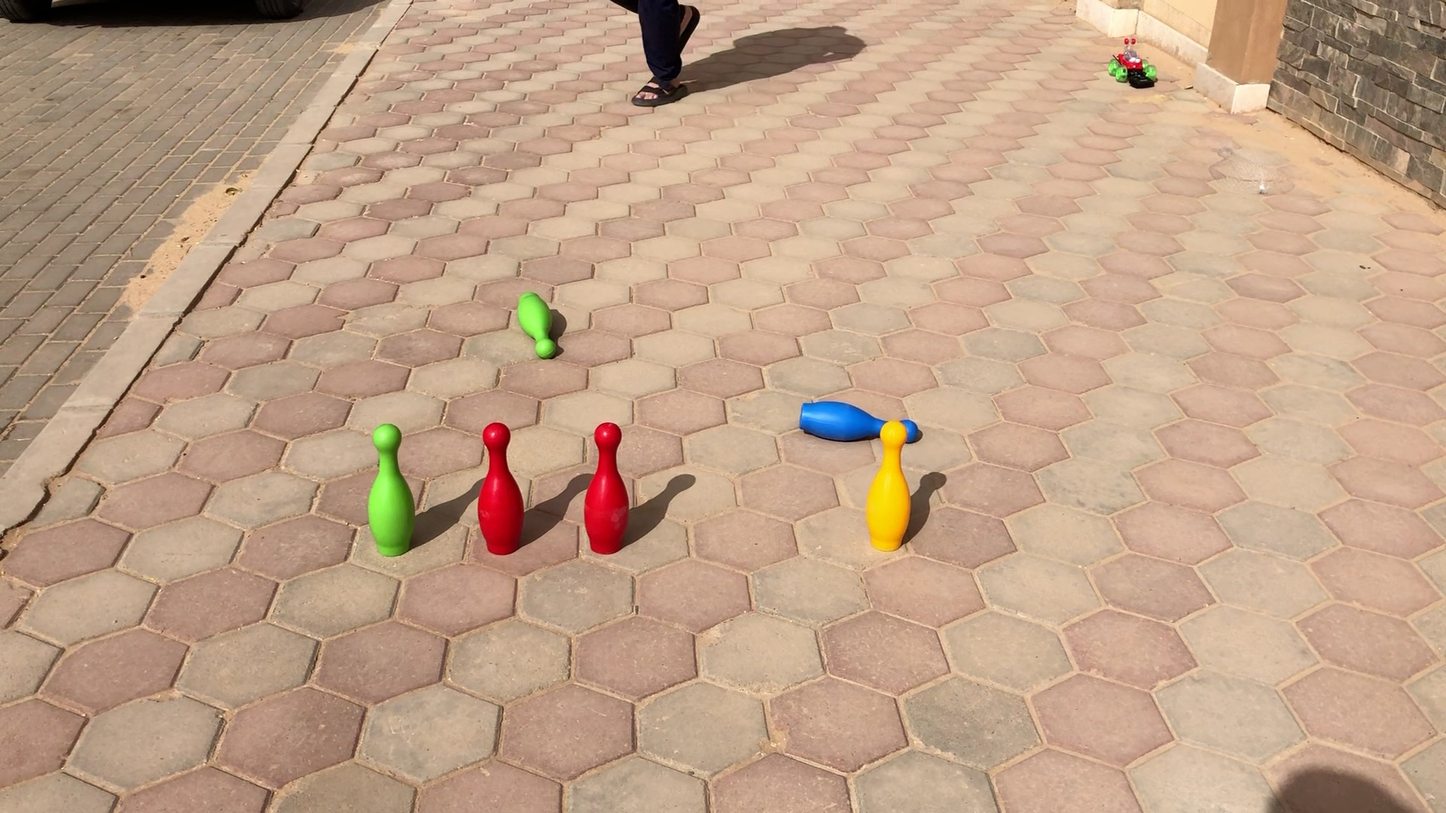pin: (788, 393, 928, 455), (474, 422, 525, 555), (366, 425, 415, 556), (868, 420, 915, 550), (583, 422, 628, 553), (514, 292, 560, 355)
